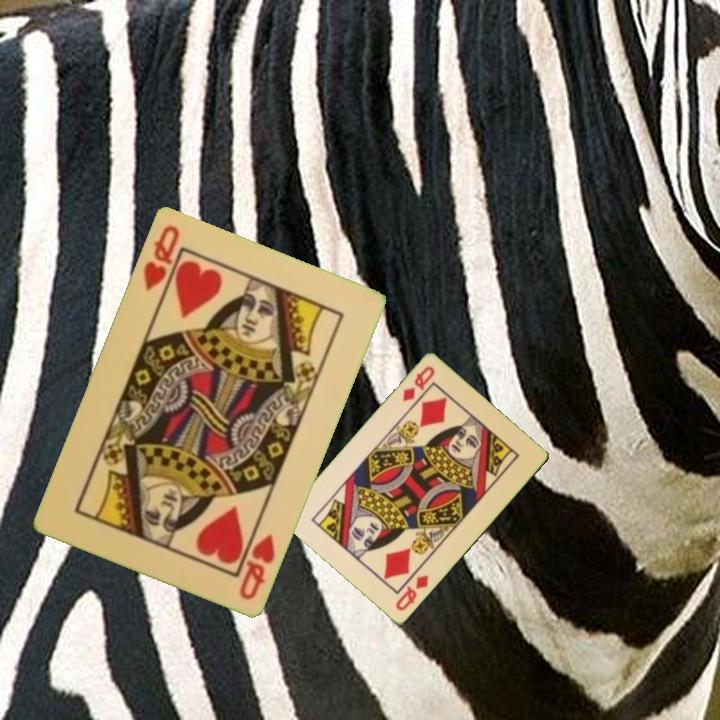Qd: (392, 572, 432, 614), (399, 363, 438, 405)
Qh: (235, 529, 278, 603), (139, 221, 182, 294)
